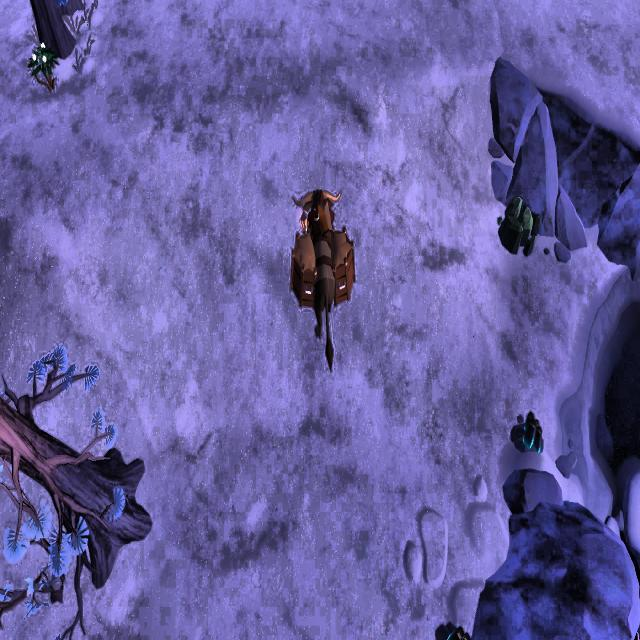fiber_t3: (27, 37, 56, 90)
ore_t4: (522, 408, 542, 456), (445, 623, 472, 640)
rock_t3: (492, 194, 543, 262)
